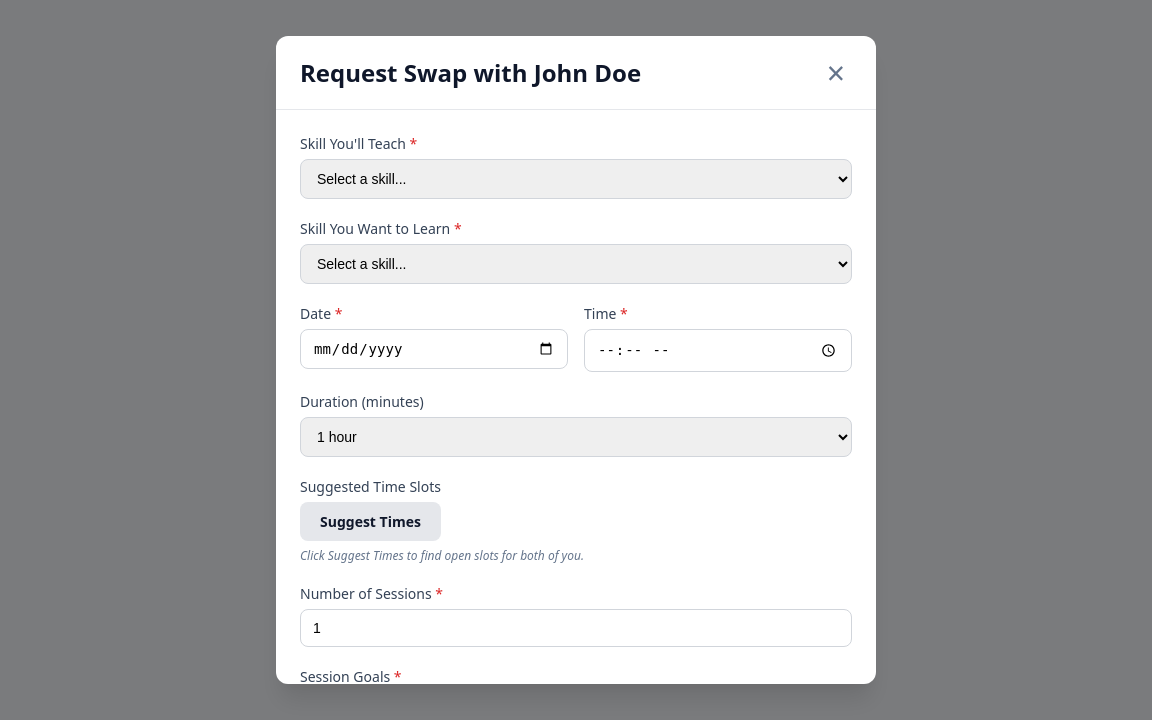
Test case: SwapRequestModal Component › disables form and shows sending text while request is in-flight
Select "Piano" in the dropdown with id "skillOffered" at [576, 179], box [300,159,852,199]
Select "Guitar" in the dropdown with id "skillWanted" at [576, 264], box [300,244,852,284]
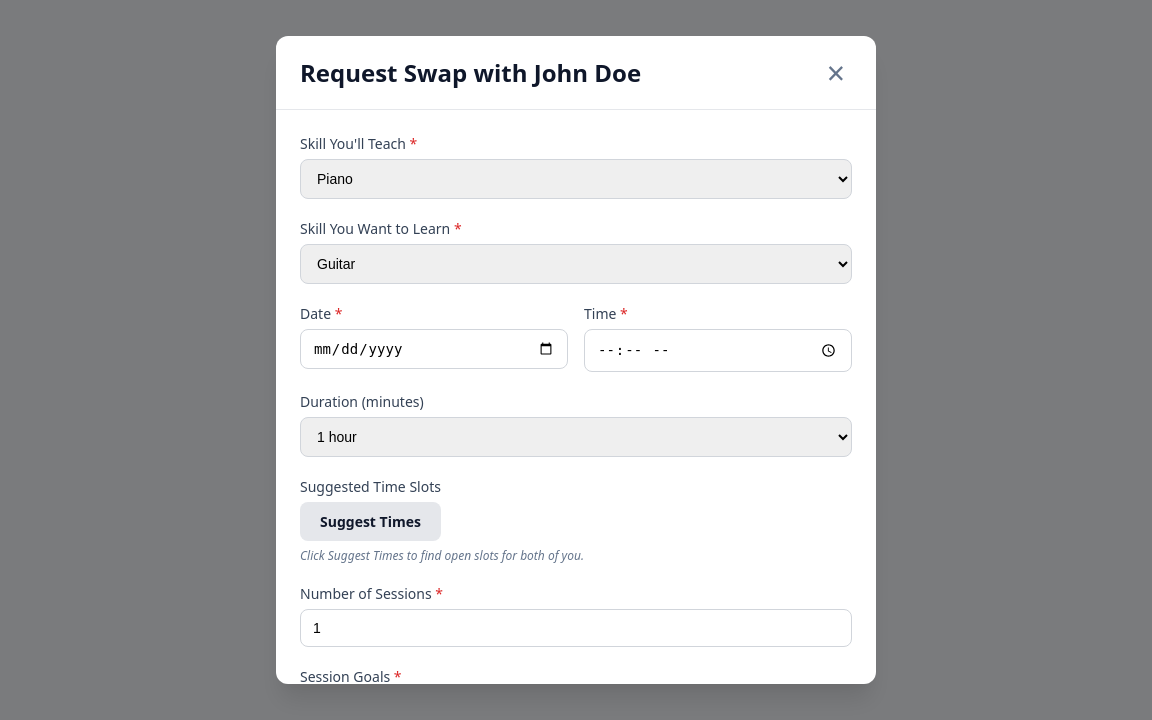
Type "2030-01-01" into the date field labelled "Date *" at [434, 349], box [300,329,568,369]
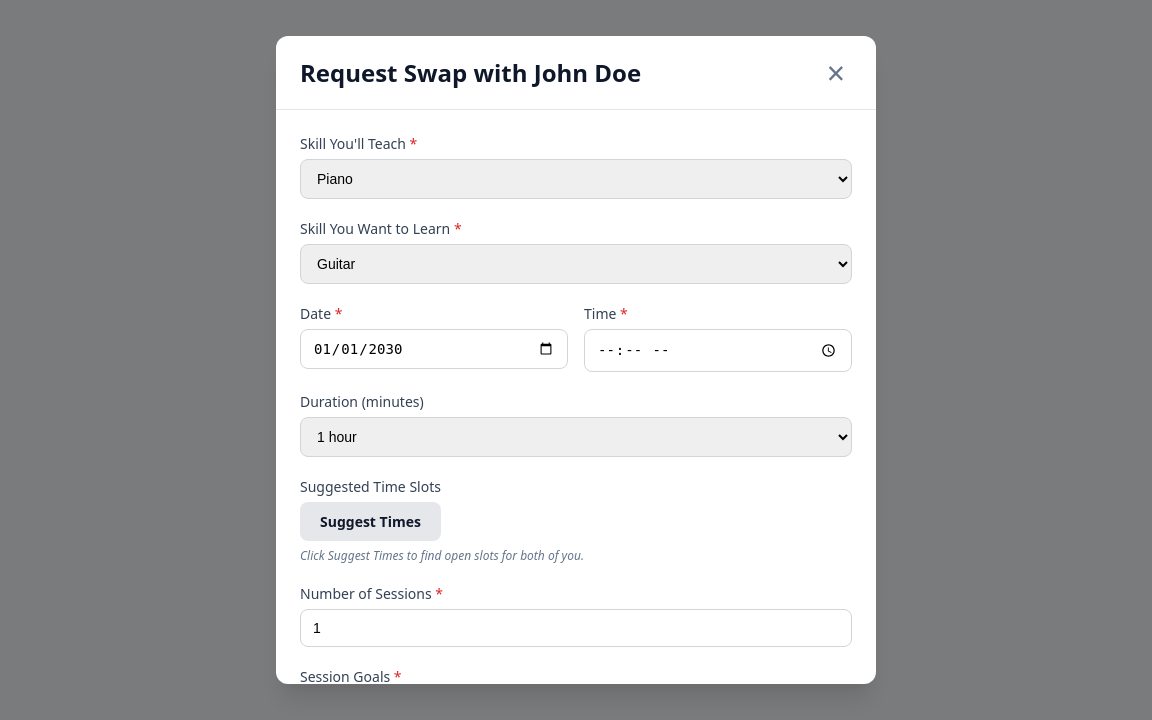
Type "10:30" into the time field labelled "Time *" at [718, 350], box [584,329,852,372]
(page scrolled)
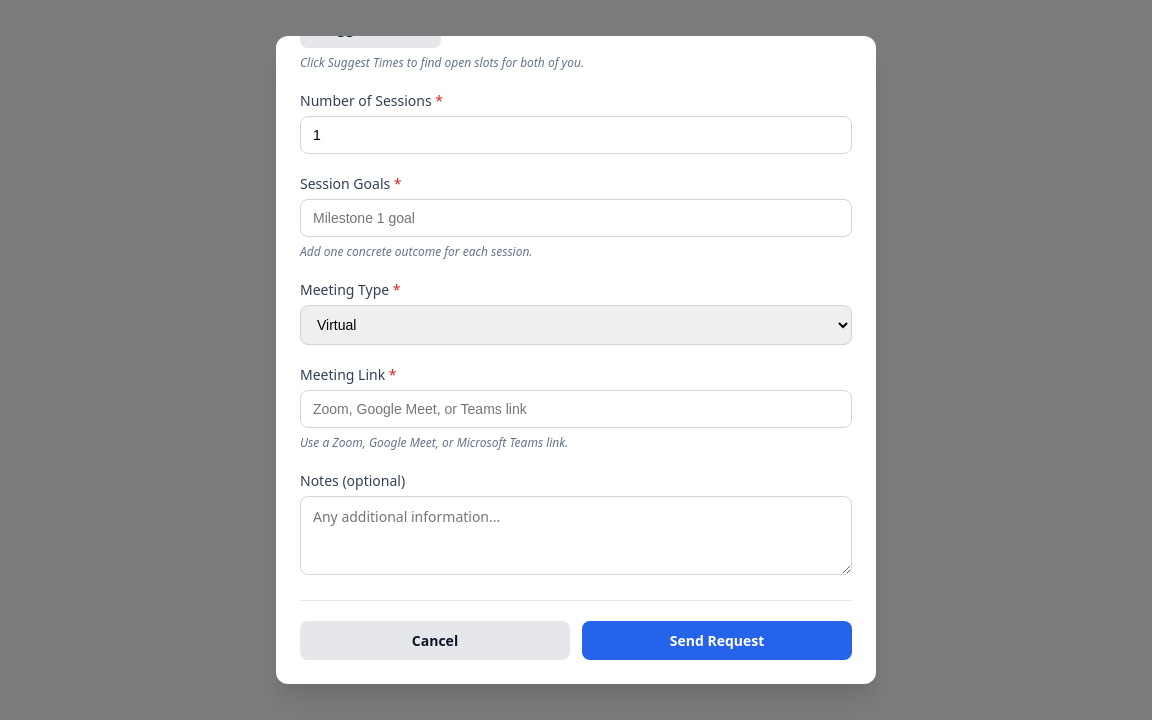
Type "https://zoom.us/j/123456789" into the field with id "meetingLink" at [576, 409], box [300,390,852,428]
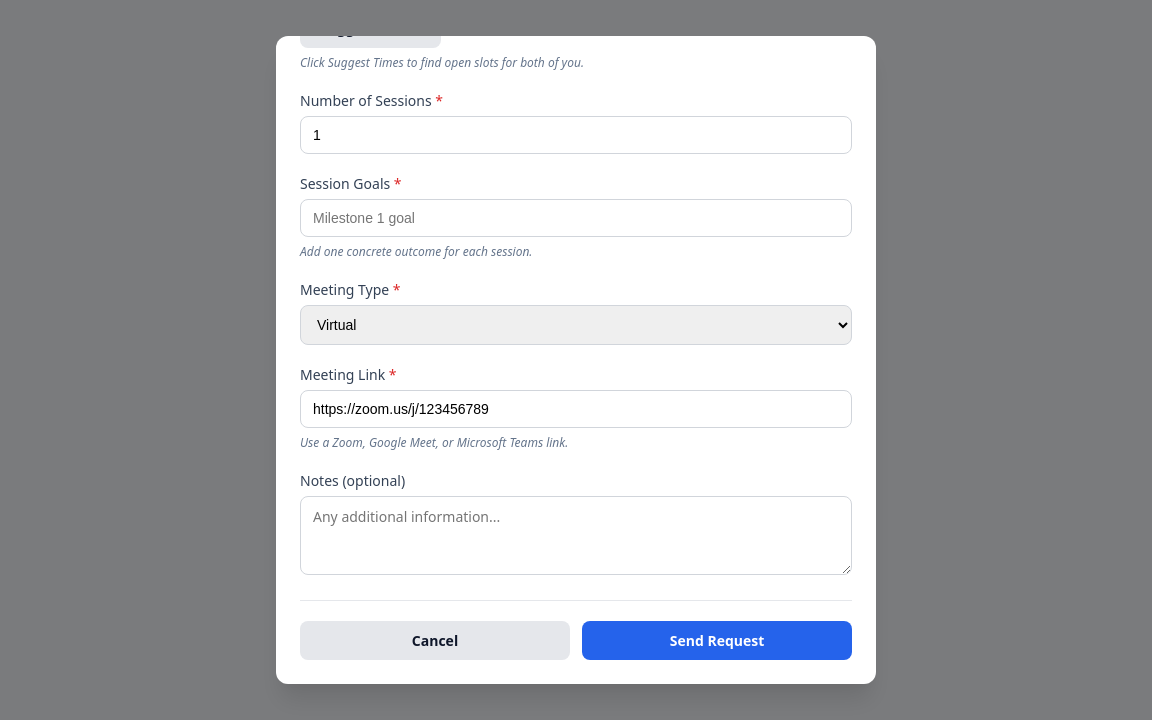
Type "Cover beginner chord transitions" into the field with placeholder "Milestone 1 goal" at [576, 218], box [300,199,852,237]
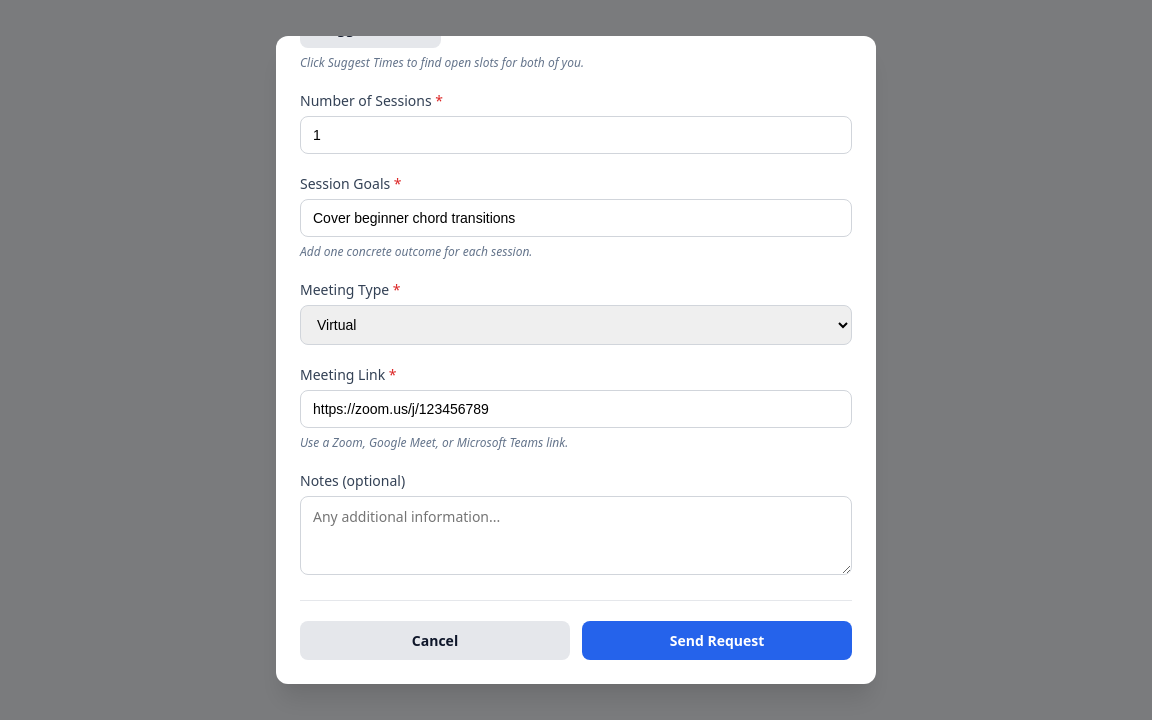
Click the button "Send Request" at [717, 640], box [582,621,852,660]
(page scrolled)
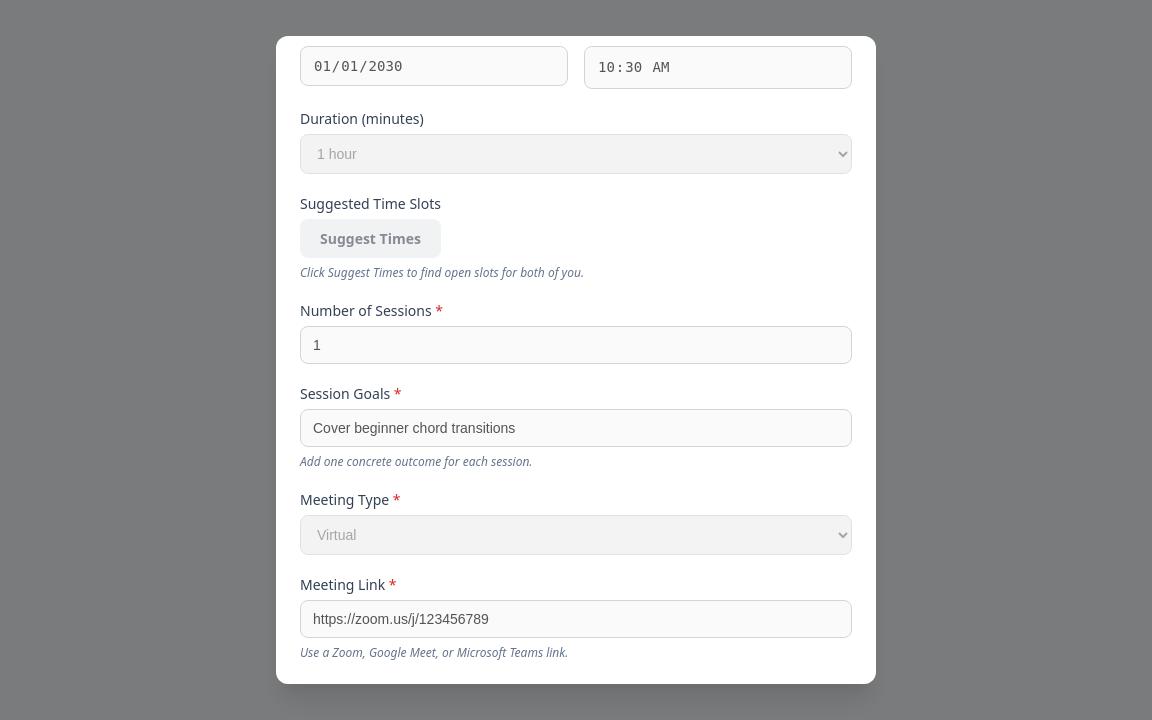
Now the element with class "swap-request-fieldset" is disabled, box [300,36,852,684]
